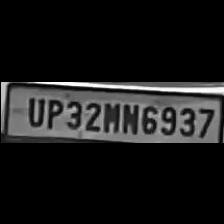2: (82, 97, 100, 131)
3: (62, 96, 82, 128), (178, 104, 195, 136)
6: (138, 100, 156, 134)
7: (195, 104, 213, 138)
9: (158, 101, 176, 135)
M: (101, 100, 119, 132)
N: (120, 100, 138, 134)
P: (43, 94, 61, 128)
U: (23, 93, 43, 126)
